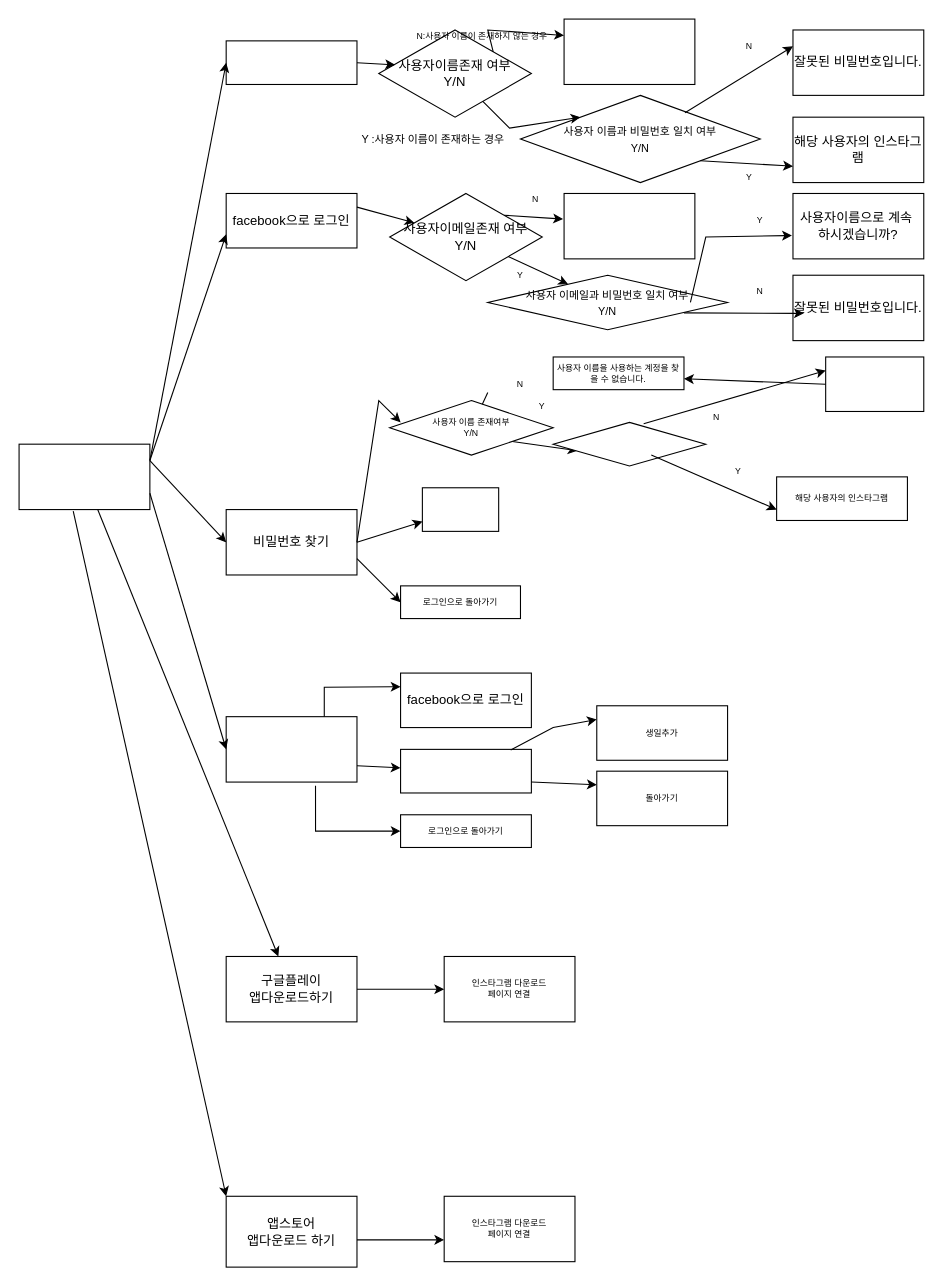
This 943x1286 diagram has some shape labels left out. The shapes that lost their labels are listed below. From the top down, each one's centre as x and y in pixels, then its label:
(291,62): 로그인
(629,51): 사용자의 이름을 사용하는 계정을 찾을 수 없습니다.
(629,225): 입력한 정보한 일치하는 계정이 없습니다. 계정을 만들어 가입하세요.
(874,383): 캡챠
(629,443): 캡챠 통과 여부 Y/N
(84,476): 메인페이지 instagram.main
(460,509): 새 계정 만들기
(291,749): 가입하기
(465,770): 개인정보 입력
